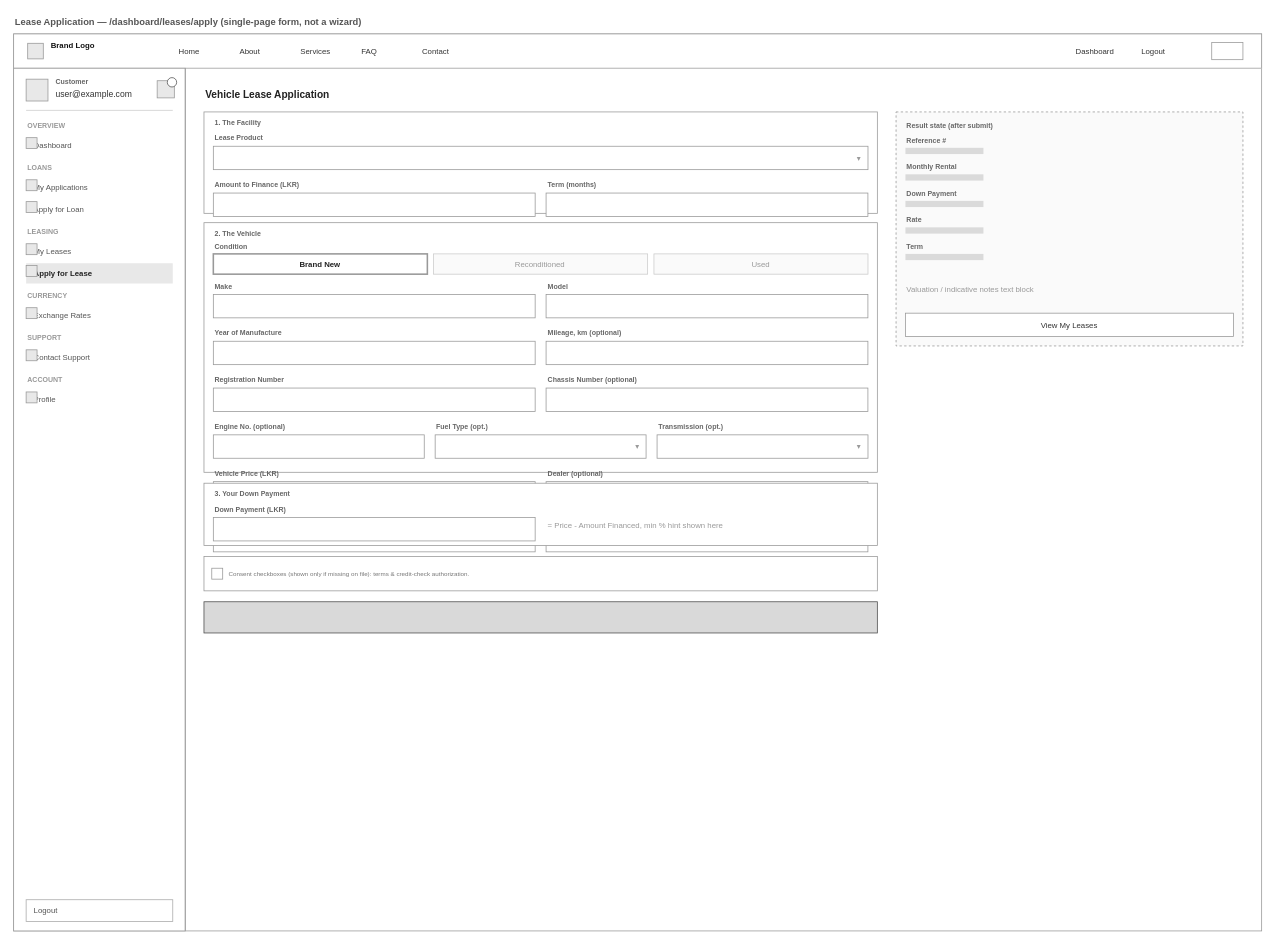
This 1276x945 diagram has some shape labels left out. The shapes that lost their labels are listed below. From the top down, each one's centre as x and y in pixels, then its label:
At point (1227, 51): "EN ▾".
At point (540, 617): "Submit Lease Application".
